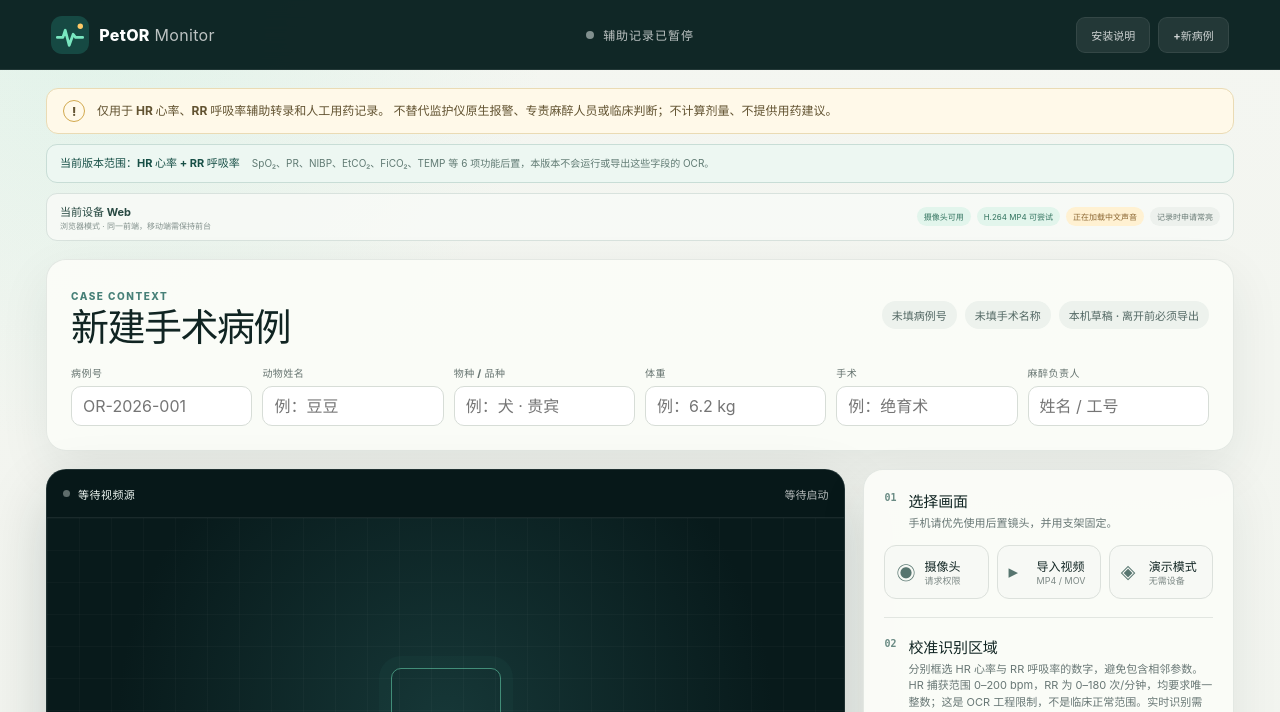
Test: PetOR web workflow › automatically downloads at five minutes with the boundary row included
Click the button "◈ 演示模式 无需设备". click: (1161,572)
box: x1=1109 y1=545 x2=1213 y2=599
(page scrolled)
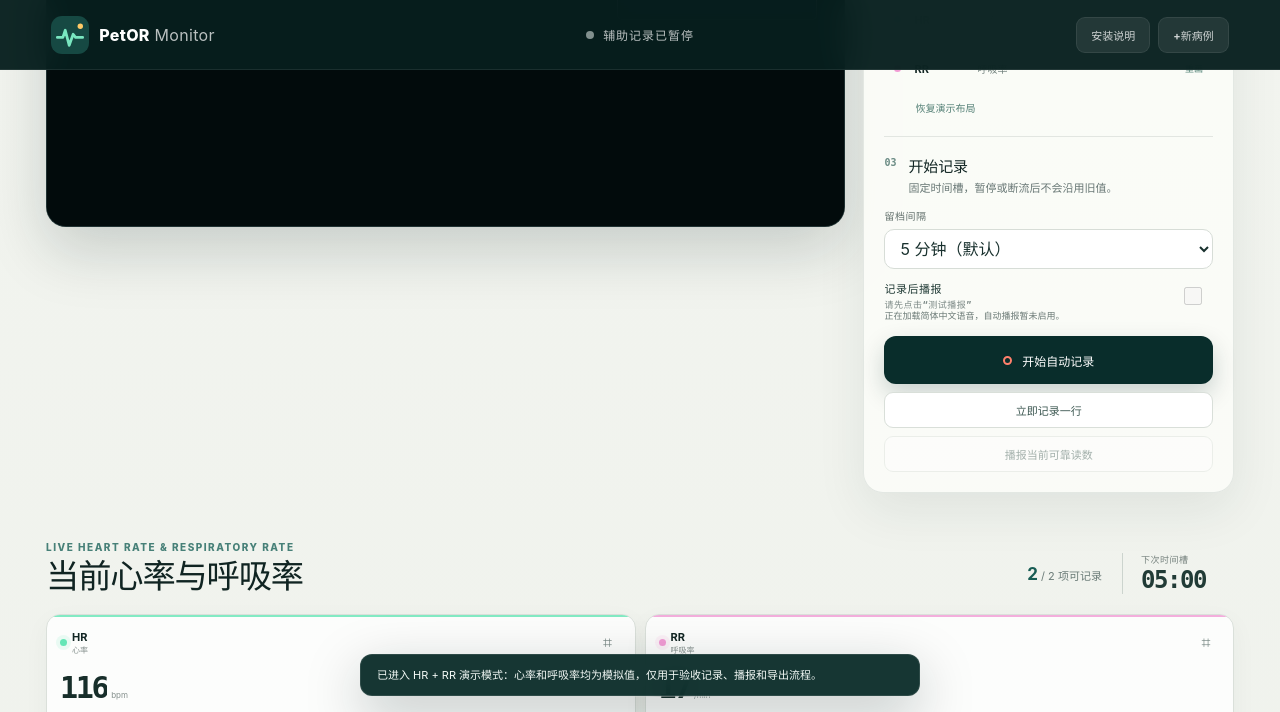
Click the button "开始自动记录". click: (1049,360)
box: x1=884 y1=336 x2=1213 y2=384
Wait 300001 ms
(page scrolled)
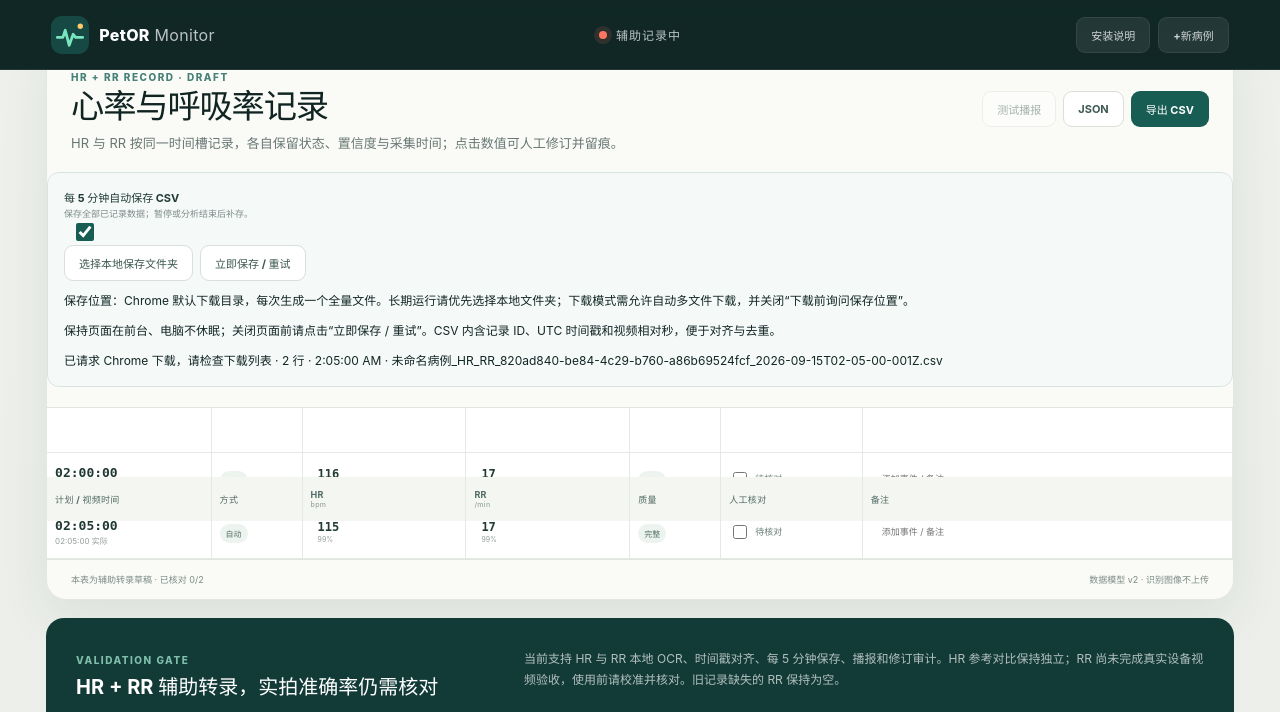
Now the text "已请求 Chrome 下载，请检查下载列表" is shown, box x1=64 y1=353 x2=943 y2=368
